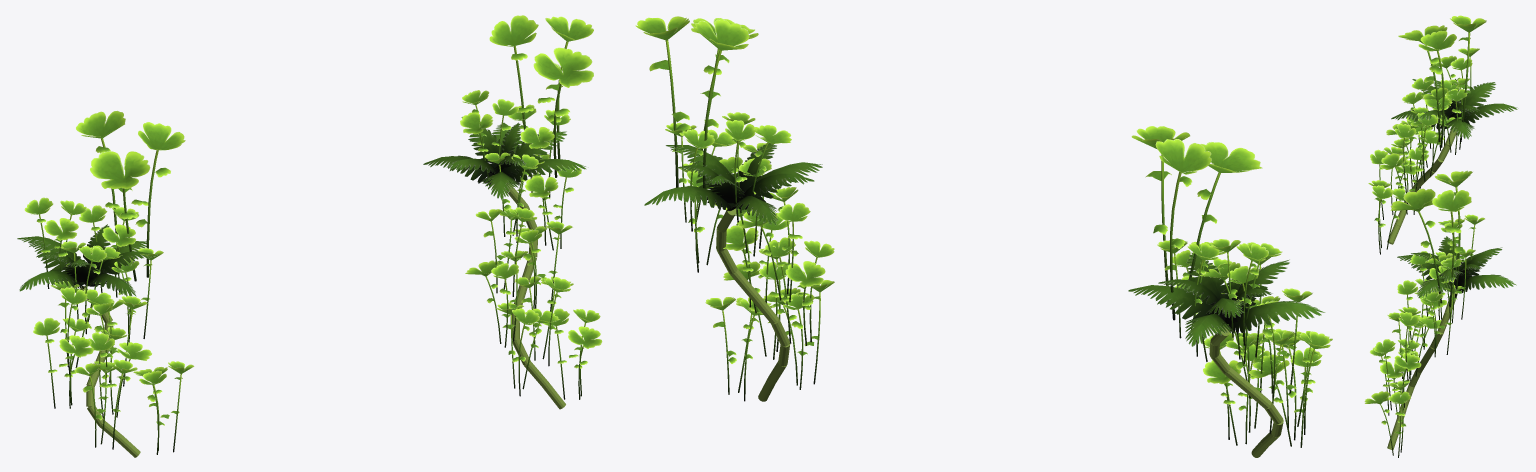
File: Broken_Pipe_Greenery.glb
3 views of the same model, side by side, from view 1: azimuth 30°, elevation 25°; view 2: azimuth 150°, elevation 25°; view 3: azimuth 270°, elevation 25° (orthographic). The views are drawn at different scales.
Parts seen in each view (by area): view 1: Patch_01, Patch_00; view 2: Patch_01, Patch_00; view 3: Patch_01, Patch_00.
Part boxes in pixels (left/top/right/bottom): Patch_01: left=423, top=15, right=602, bottom=409; Patch_00: left=17, top=110, right=194, bottom=457; Patch_01: left=635, top=16, right=834, bottom=401; Patch_00: left=1128, top=126, right=1332, bottom=457; Patch_01: left=1364, top=170, right=1516, bottom=457; Patch_00: left=1368, top=15, right=1518, bottom=254.
Size of the model in its own units: 2.21 by 1.28 by 0.661.
Materials: 3 (2 with a texture image).
